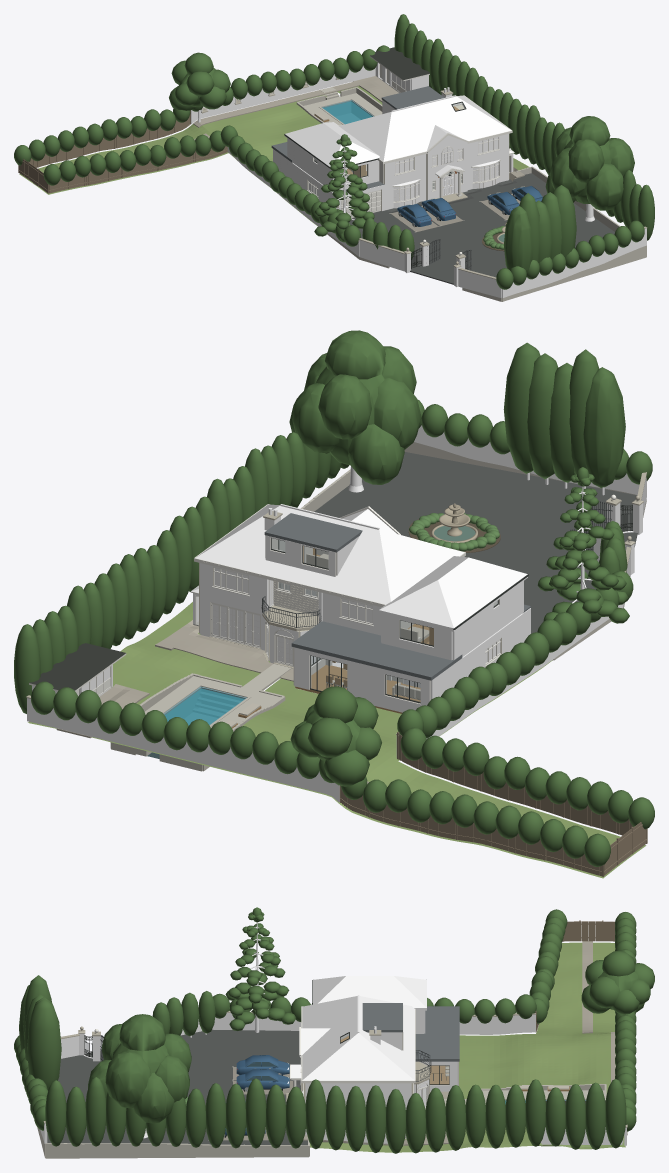
3 renders of one model, top to bottom at view 1: azimuth 30°, elevation 25°; view 2: azimuth 150°, elevation 25°; view 3: azimuth 270°, elevation 25°, orthographic. The views are drawn at different scales.
Visible parts, largest first — view 1: E1 | Circular driveway - tarmac.004, E1 | Main hipped roof, E1 | Plot ground - title plan approximate.008, Main rear garden niche wall, Mature tree foliage.085, Front south boundary wall, E1 | Subordinate side roof plane 3, Mature tree foliage.007, Mature tree foliage.006, Rear wall garden path, Mature tree foliage.089, Outbuilding flat roof (+25 smaller); view 2: E1 | Circular driveway - tarmac.004, E1 | Plot ground - title plan approximate.008, E1 | Main hipped roof, Main rear garden niche wall, E1 | Rear addition flat roof, Mature tree foliage.085, E1 | Subordinate side roof plane 3, Mature tree foliage.089, Mature tree foliage.088, Mature tree foliage.003, Mature tree foliage.004, Mature tree foliage.005 (+38 smaller); view 3: E1 | Plot ground - title plan approximate.008, E1 | Main hipped roof, E1 | Circular driveway - tarmac.004, Mature tree foliage.089, E1 | Rear addition flat roof, Western house boundary wall, Mature tree foliage.008, E1 | Subordinate side roof plane 1, Mature tree foliage.009, Mature tree foliage.001, Boundary hedge, Boundary hedge.018 (+50 smaller).
Part boxes in pixels (box(x1,y1,x2,y2)): E1 | Circular driveway - tarmac.004: box(349, 173, 614, 284); E1 | Main hipped roof: box(339, 95, 511, 161); E1 | Plot ground - title plan approximate.008: box(19, 86, 529, 226); Main rear garden niche wall: box(191, 65, 375, 124); Mature tree foliage.085: box(503, 206, 533, 277); Front south boundary wall: box(502, 228, 646, 298); E1 | Subordinate side roof plane 3: box(285, 123, 341, 170); Mature tree foliage.007: box(585, 164, 623, 210); Mature tree foliage.006: box(568, 139, 604, 182); Rear wall garden path: box(193, 81, 359, 127); Mature tree foliage.089: box(553, 185, 576, 258); Outbuilding flat roof: box(369, 47, 429, 81); E1 | Circular driveway - tarmac.004: box(314, 452, 637, 633); E1 | Plot ground - title plan approximate.008: box(28, 602, 646, 878); E1 | Main hipped roof: box(196, 504, 464, 604); Main rear garden niche wall: box(27, 698, 339, 802); E1 | Rear addition flat roof: box(291, 621, 462, 680); Mature tree foliage.085: box(583, 367, 625, 488); E1 | Subordinate side roof plane 3: box(438, 557, 527, 631); Mature tree foliage.089: box(503, 342, 540, 473); Mature tree foliage.088: box(527, 353, 558, 479); Mature tree foliage.003: box(318, 374, 371, 439); Mature tree foliage.004: box(348, 424, 404, 484); Mature tree foliage.005: box(374, 378, 421, 449); E1 | Plot ground - title plan approximate.008: box(310, 942, 625, 1152); E1 | Main hipped roof: box(302, 996, 414, 1080); E1 | Circular driveway - tarmac.004: box(47, 1029, 307, 1145); Mature tree foliage.089: box(27, 998, 61, 1090); E1 | Rear addition flat roof: box(415, 1006, 459, 1061); Western house boundary wall: box(212, 1013, 535, 1034); Mature tree foliage.008: box(105, 1051, 151, 1108); E1 | Subordinate side roof plane 1: box(318, 976, 426, 1010); Mature tree foliage.009: box(119, 1014, 165, 1051); Mature tree foliage.001: box(133, 1073, 174, 1123); Boundary hedge: box(605, 1079, 626, 1148); Boundary hedge.018: box(245, 1078, 266, 1148).
Bounding box in the file's own units: 45.93 × 13.34 × 53.16.
